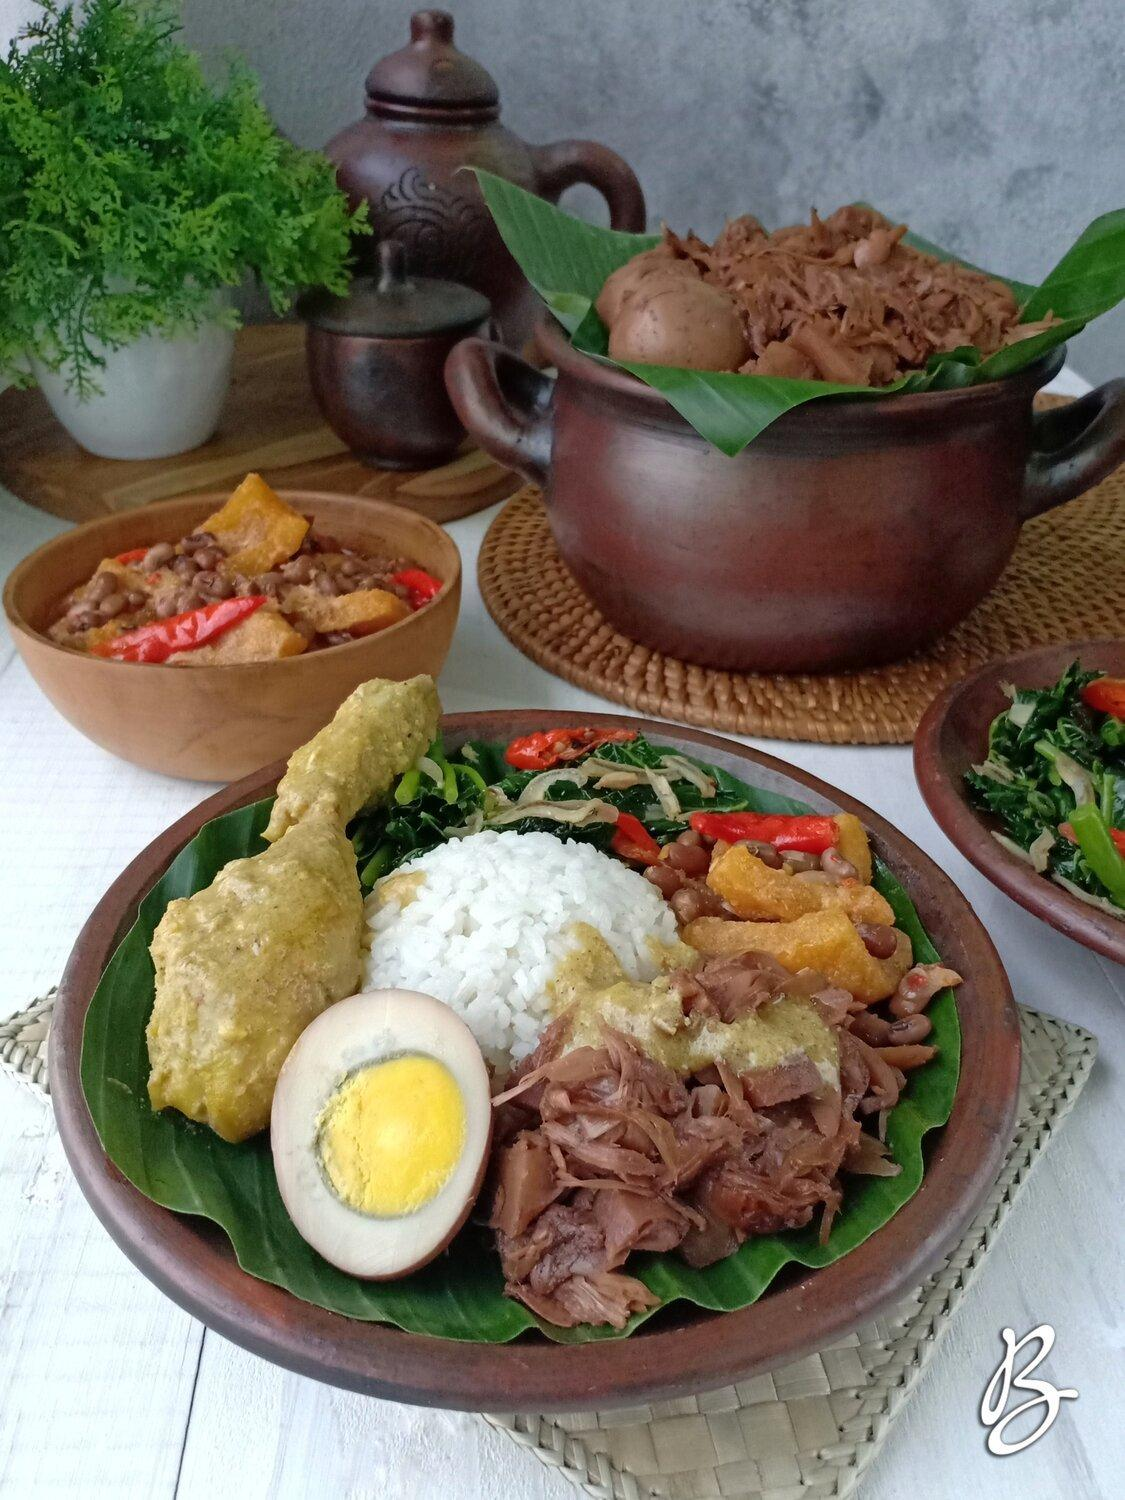gudeg: (594, 204, 1017, 394)
